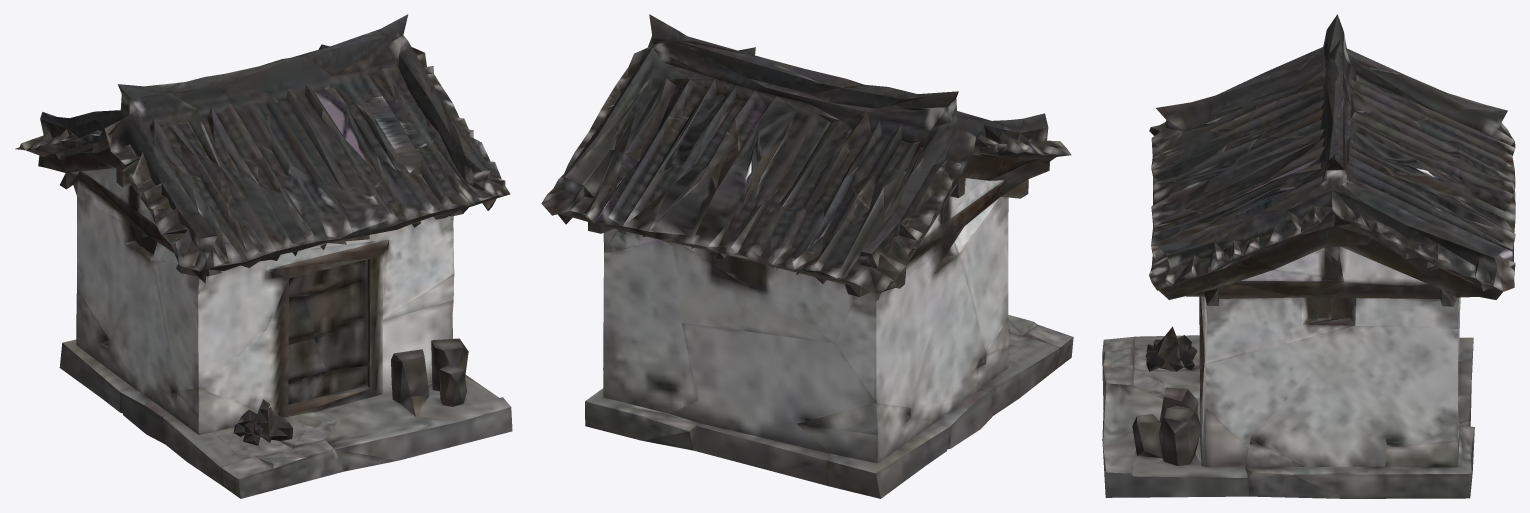
File: magazine_lod1.glb
The picture shows the model from 3 angles, left to right: view 1: azimuth 30°, elevation 25°; view 2: azimuth 150°, elevation 25°; view 3: azimuth 270°, elevation 25°; orthographic projection. The views are drawn at different scales.
Parts seen in each view (by area): view 1: Mesh_0; view 2: Mesh_0; view 3: Mesh_0.
Boxes of the visible parts, x1,y1,x2,y2 form: Mesh_0: (15,14,512,498); Mesh_0: (541,14,1073,498); Mesh_0: (1102,14,1515,498).
Bounding box in the file's own units: 1.8 × 1.73 × 1.89.
Materials: 1 (1 with a texture image).
